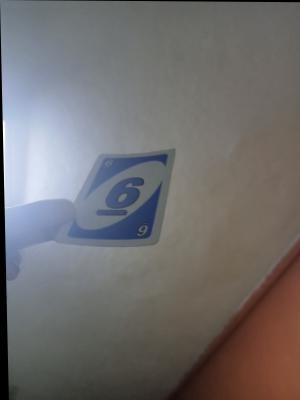blue: (99, 157, 156, 238)
